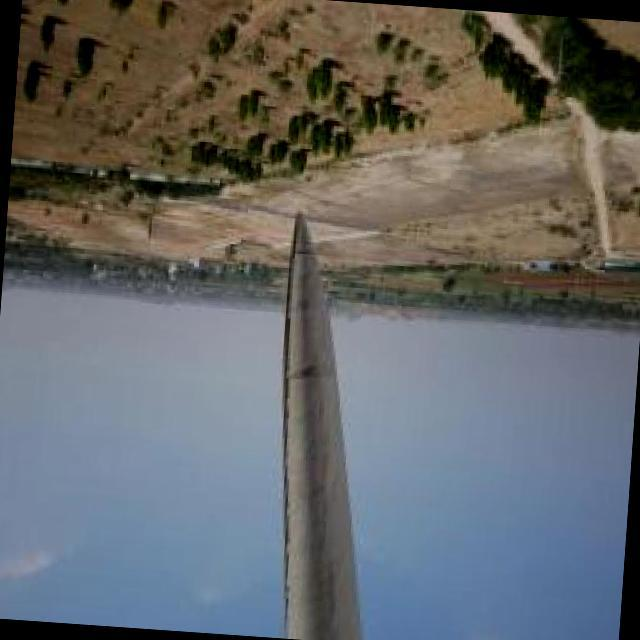Dirt: (292, 263, 361, 640)
Oil LEAKAGE: (270, 213, 308, 604)
Pin Hole: (299, 366, 319, 380)
